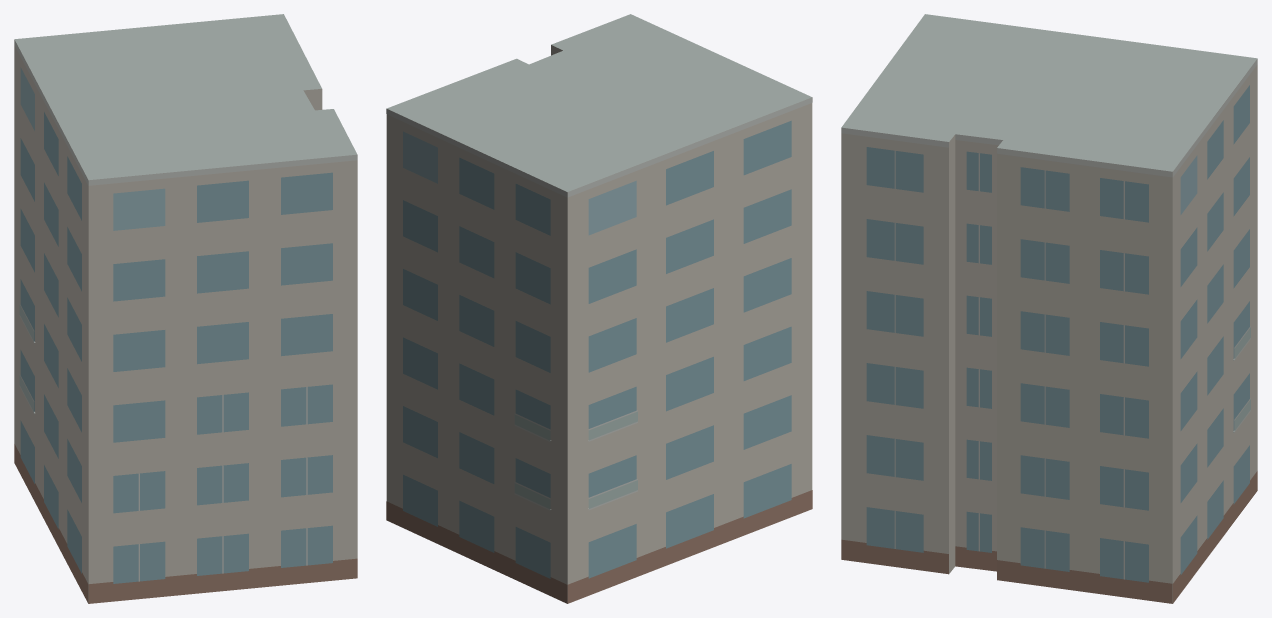
The model's file is survey-upis-32742313.glb.
3 views of the same model, side by side, from view 1: azimuth 30°, elevation 25°; view 2: azimuth 150°, elevation 25°; view 3: azimuth 270°, elevation 25° (orthographic). The views are drawn at different scales.
Visible parts, largest first — view 1: survey-upis-32742313.tmp; view 2: survey-upis-32742313.tmp; view 3: survey-upis-32742313.tmp.
Part boxes in pixels (left/top/right/bottom): survey-upis-32742313.tmp: left=14, top=14, right=357, bottom=603; survey-upis-32742313.tmp: left=386, top=14, right=812, bottom=603; survey-upis-32742313.tmp: left=841, top=14, right=1257, bottom=603.
Bounding box in the file's own units: 14.33 × 18.3 × 15.99.
